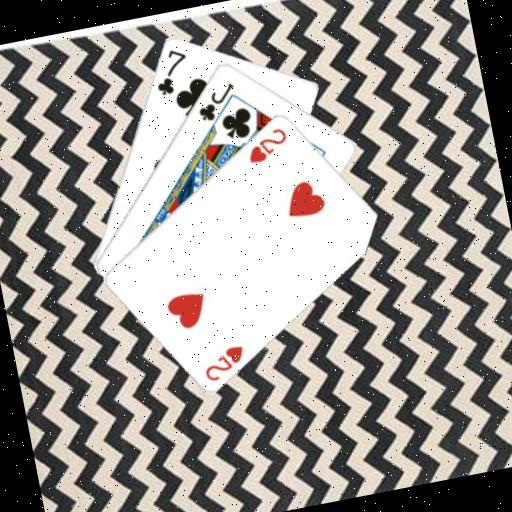2H: (197, 340, 250, 384), (241, 123, 293, 167)
7C: (147, 44, 194, 98)
JC: (190, 79, 241, 125)
